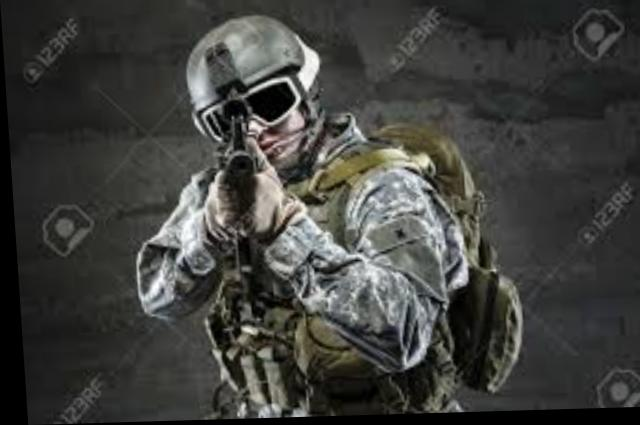other: (119, 12, 525, 418)
